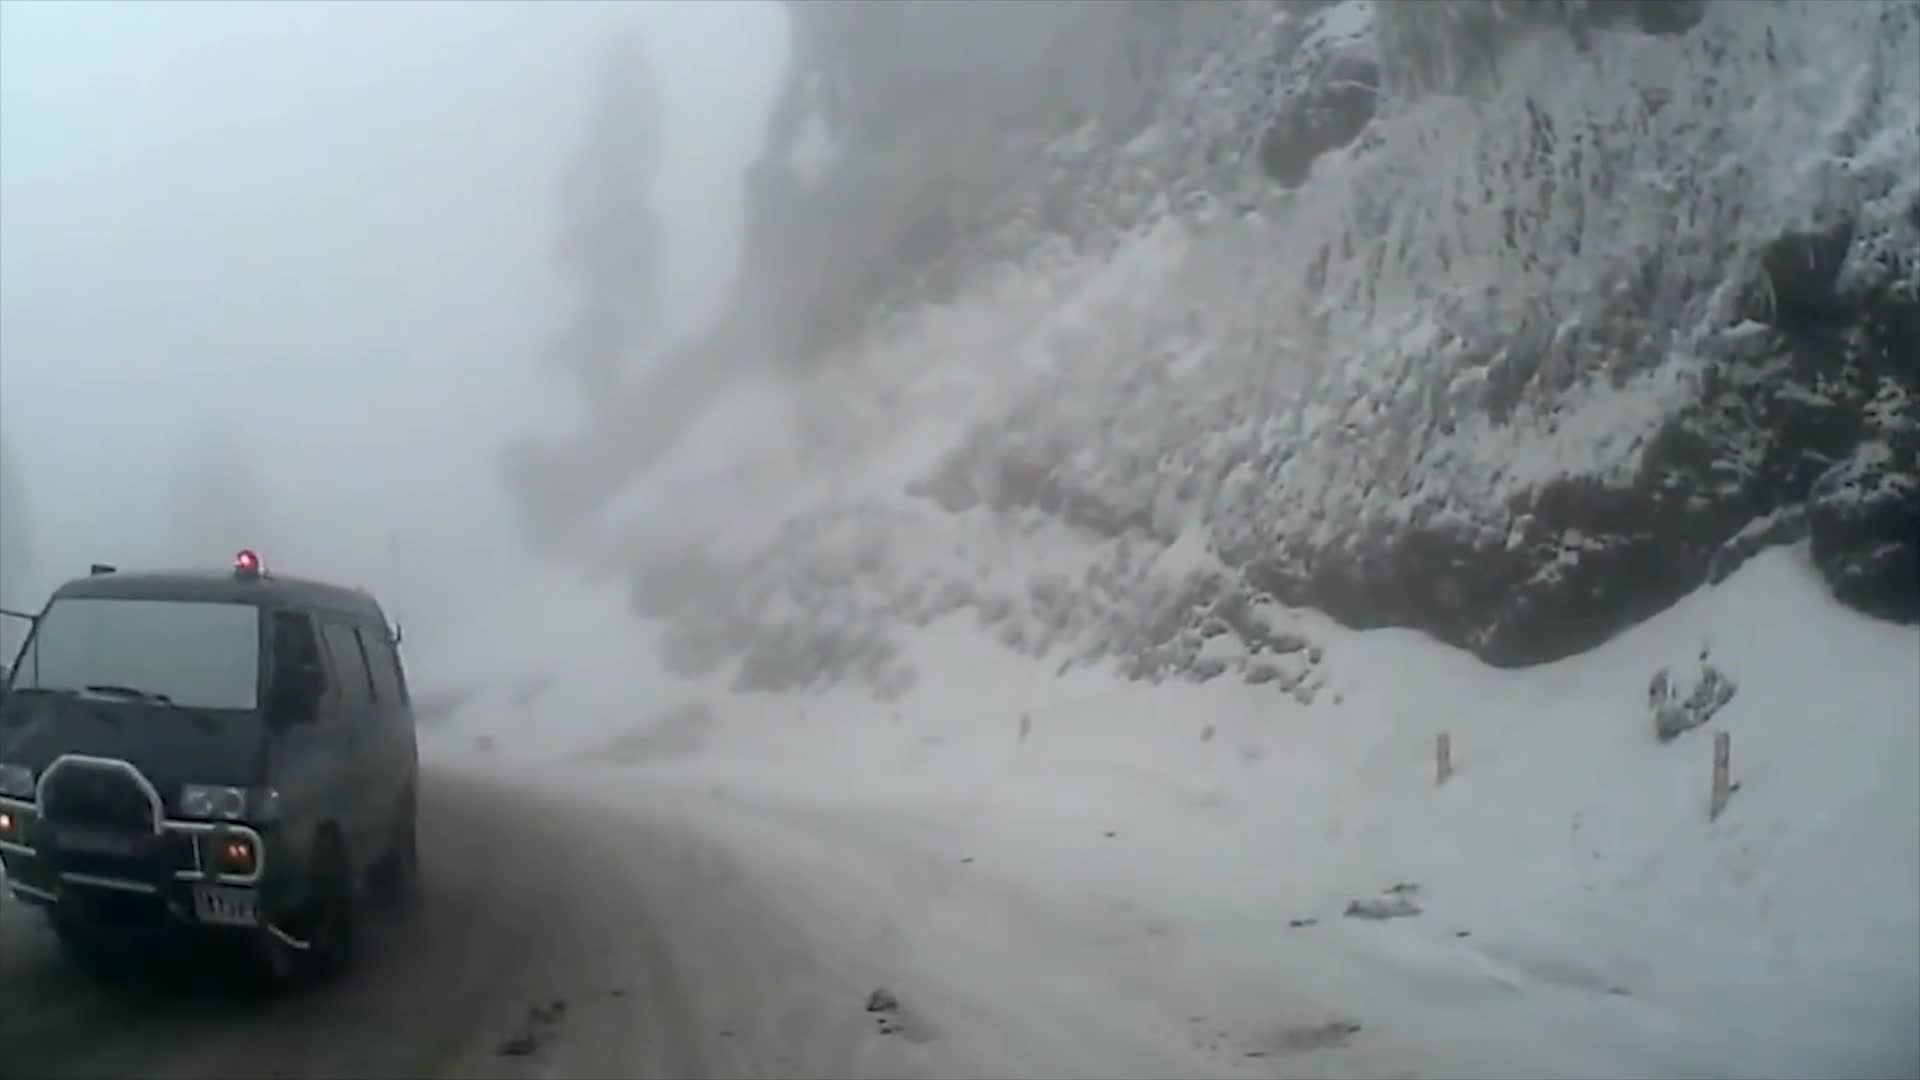vehicle: (0, 547, 421, 992)
